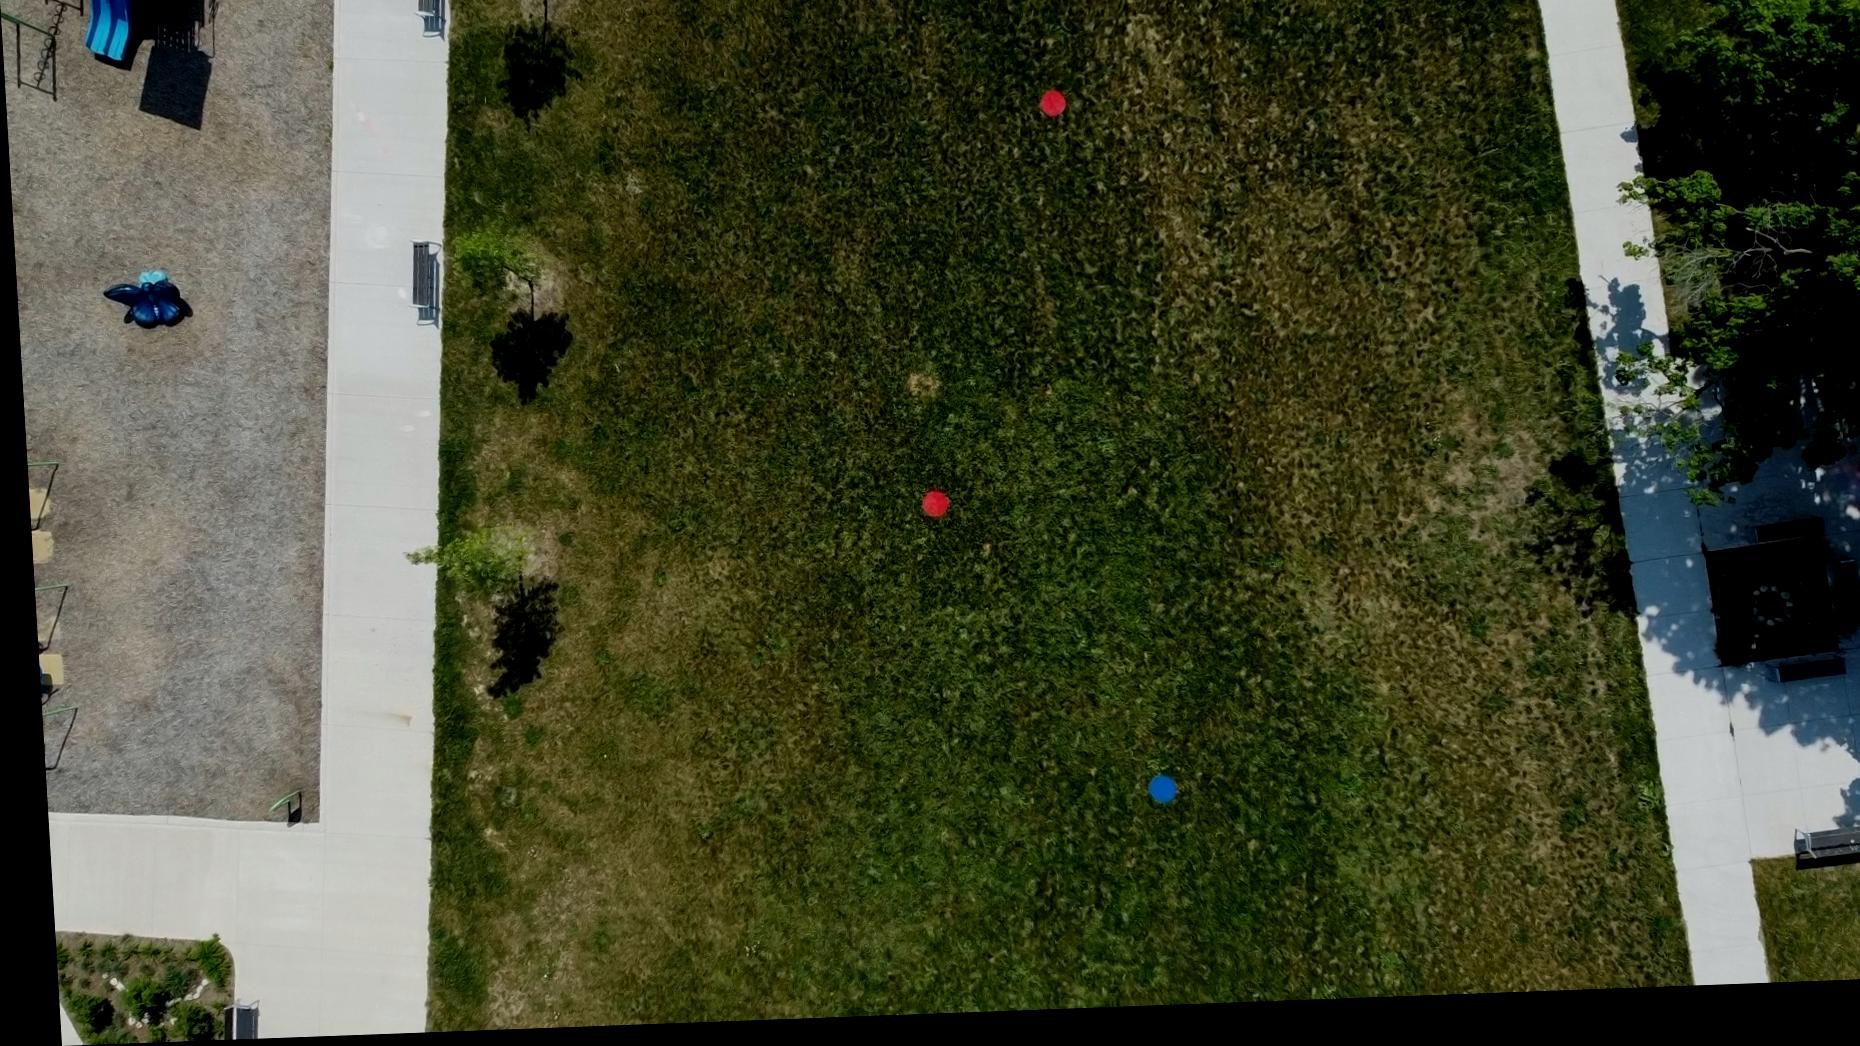Blue: (1136, 783, 1169, 815)
Red: (1036, 96, 1067, 126), (913, 496, 945, 525)
